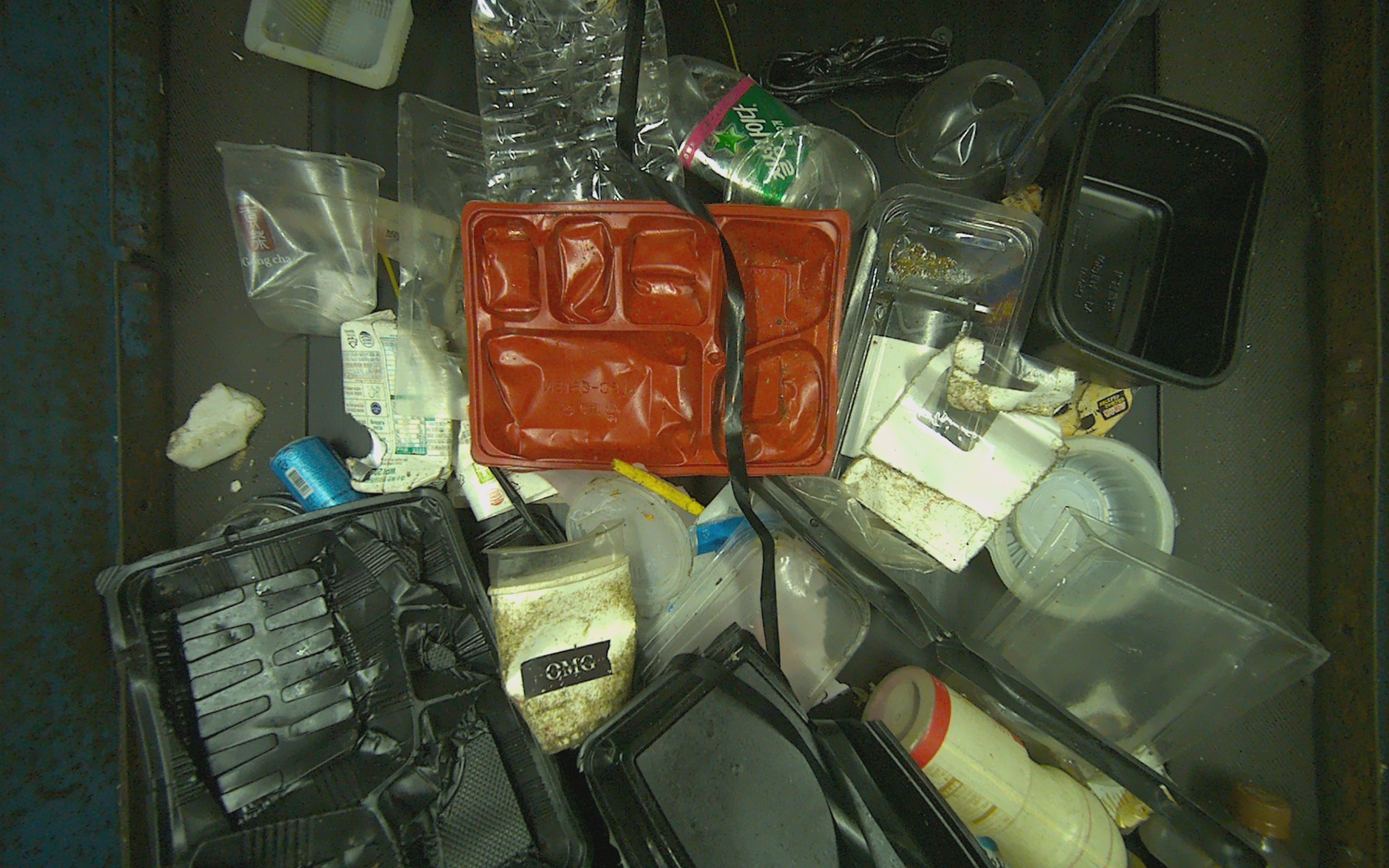PET: (861, 666, 1145, 868)
PET-C: (214, 140, 387, 337)
PP-B: (95, 486, 587, 868), (1019, 82, 1272, 391)
